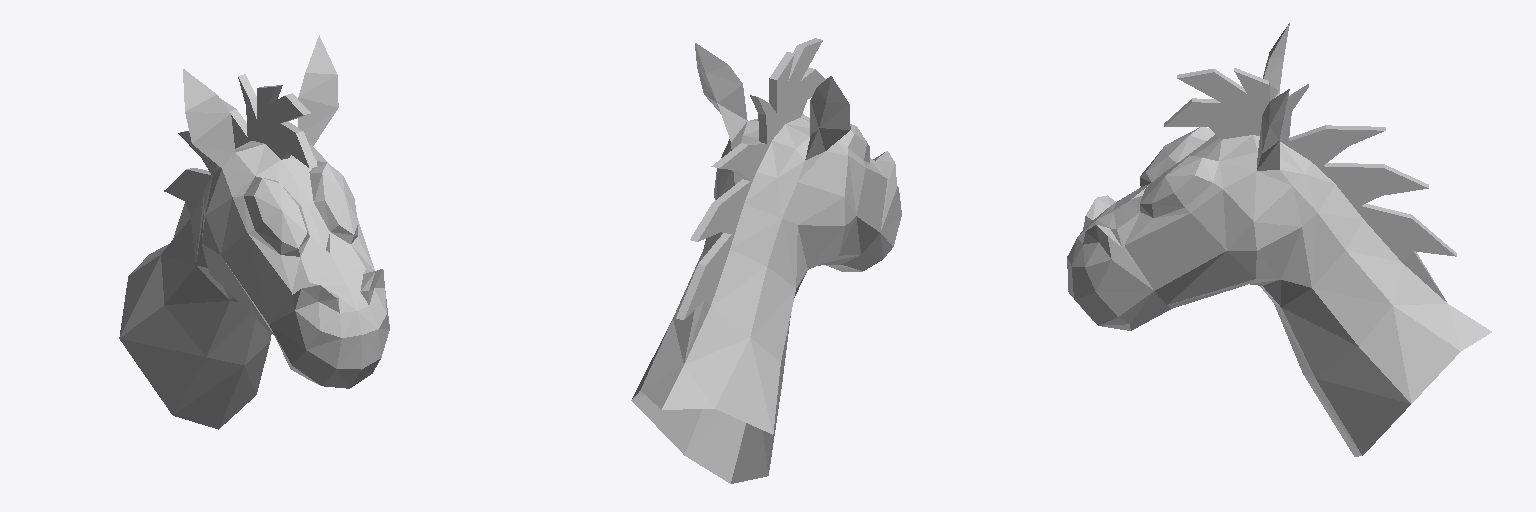
Rendered from cabeza_caballoTS.obj.
3 views of the same model, side by side, from view 1: azimuth 30°, elevation 25°; view 2: azimuth 150°, elevation 25°; view 3: azimuth 270°, elevation 25° (orthographic).
Parts seen in each view (by area): view 1: cabeza_caballoTS; view 2: cabeza_caballoTS; view 3: cabeza_caballoTS.
Part boxes in pixels (x1,y1,x2,y2): cabeza_caballoTS: (119, 35, 389, 429); cabeza_caballoTS: (631, 38, 901, 483); cabeza_caballoTS: (1067, 23, 1491, 456).
Size of the model in its own units: 2.8 by 7.04 by 6.76.